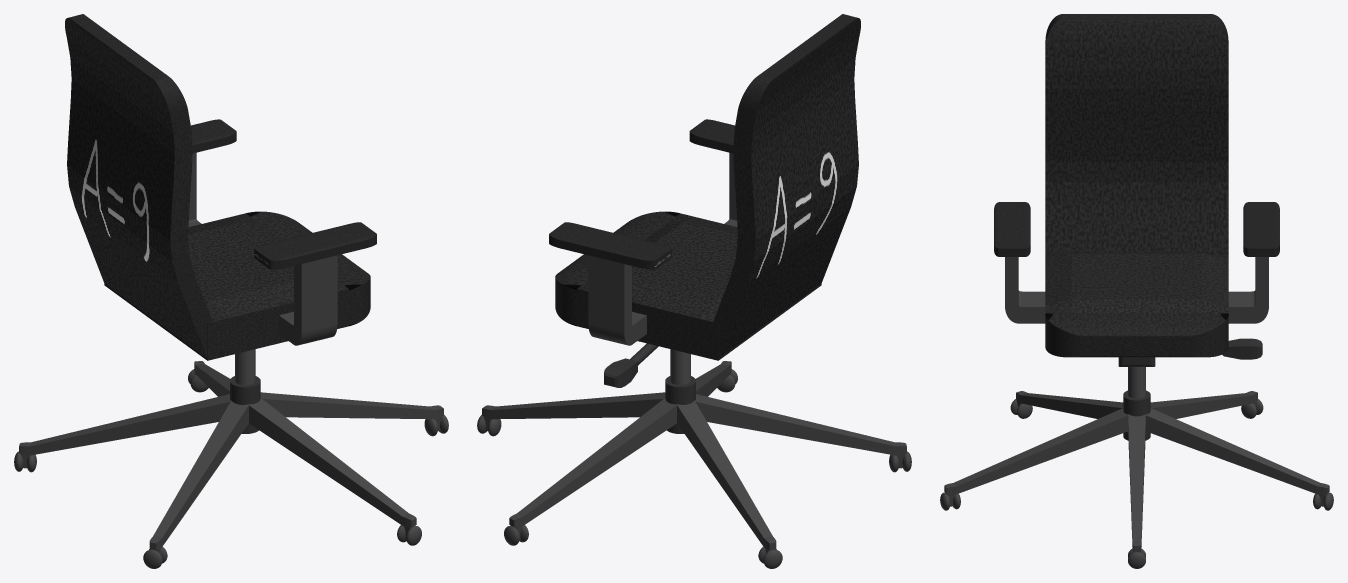
Rendered from Office_Chair_A=9.glb.
3 renders of one model, left to right at view 1: azimuth 30°, elevation 25°; view 2: azimuth 150°, elevation 25°; view 3: azimuth 270°, elevation 25°, orthographic. The views are drawn at different scales.
Visible parts, largest first — view 1: Cube.001, Cube.004, Cube, Cube.006, Cube.008, Cube.007, Cylinder.002, Cylinder.001; view 2: Cube.001, Cube.004, Cube, Cube.005, Cube.007, Cube.008, Cylinder.002, Cube.003, Cylinder.001; view 3: Cube.001, Cube, Cube.004, Cube.007, Cube.008, Cube.005, Cube.006, Cube.003, Cylinder.002, Cylinder.001.
Boxes of the visible parts, box(x1,y1,x2,y2) form: Cube.001: box(65, 14, 212, 358); Cube.004: box(14, 361, 448, 568); Cube: box(104, 211, 370, 360); Cube.006: box(279, 255, 337, 345); Cube.008: box(254, 222, 376, 269); Cube.007: box(191, 119, 236, 153); Cylinder.002: box(230, 376, 260, 433); Cylinder.001: box(235, 349, 255, 384); Cube.001: box(713, 14, 860, 358); Cube.004: box(477, 361, 911, 568); Cube: box(555, 211, 821, 360); Cube.005: box(588, 255, 646, 345); Cube.007: box(549, 222, 671, 269); Cube.008: box(689, 119, 734, 153); Cylinder.002: box(665, 376, 695, 433); Cube.003: box(604, 358, 637, 387); Cylinder.001: box(670, 349, 690, 384); Cube.001: box(1045, 14, 1228, 254); Cube: box(1045, 252, 1228, 357); Cube.004: box(940, 391, 1333, 568); Cube.007: box(1243, 202, 1279, 256); Cube.008: box(994, 202, 1030, 256); Cube.005: box(1228, 257, 1268, 323); Cube.006: box(1005, 257, 1045, 323); Cube.003: box(1222, 338, 1262, 359); Cylinder.002: box(1123, 390, 1150, 440); Cylinder.001: box(1128, 367, 1145, 398).
Bounding box in the file's own units: 2.05 × 2.48 × 2.15.
7 materials, 1 textured.
